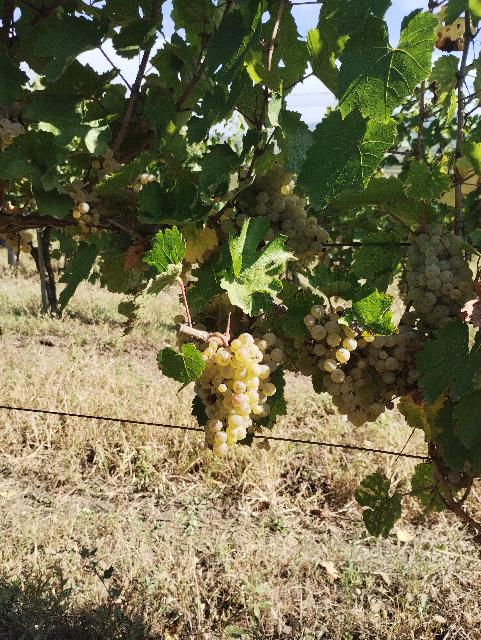grapes: (195, 332, 276, 456), (235, 162, 330, 261), (408, 226, 474, 334)
